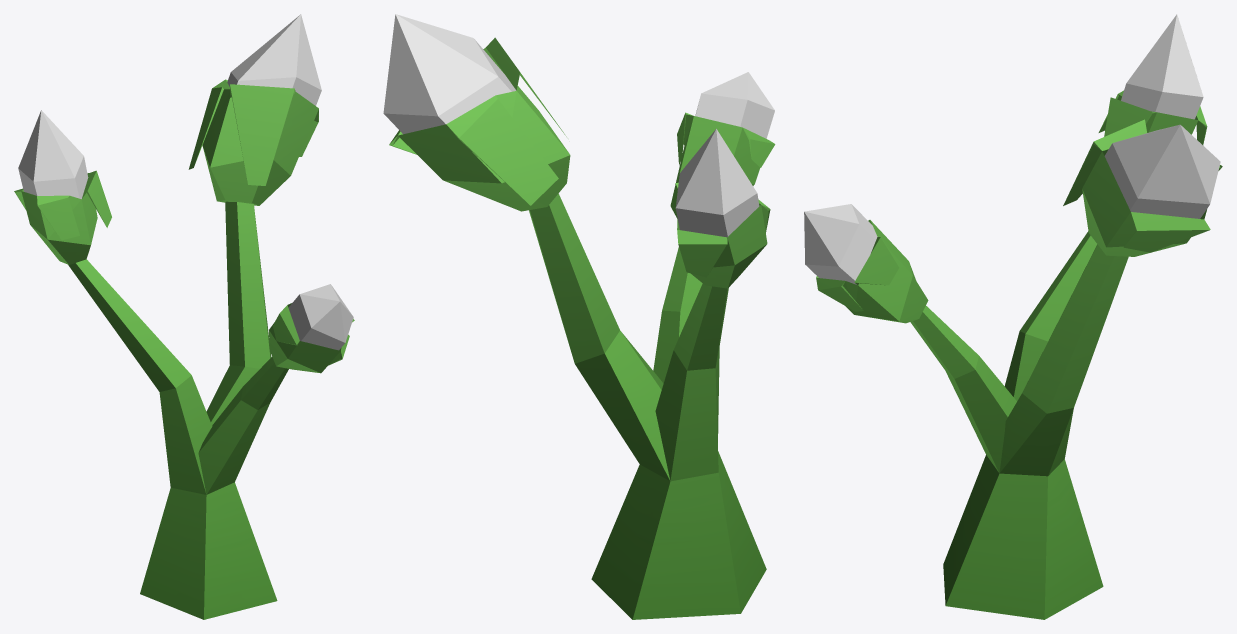
File: plant_flower_crystalbud.fbx
3 views of the same model, side by side, from view 1: azimuth 30°, elevation 25°; view 2: azimuth 150°, elevation 25°; view 3: azimuth 270°, elevation 25° (orthographic). The views are drawn at different scales.
Parts seen in each view (by area): view 1: plant_flower_crystalbud; view 2: plant_flower_crystalbud; view 3: plant_flower_crystalbud.
Boxes of the visible parts, left/top/right/bottom form: plant_flower_crystalbud: left=14, top=14, right=354, bottom=619; plant_flower_crystalbud: left=383, top=14, right=775, bottom=619; plant_flower_crystalbud: left=804, top=14, right=1222, bottom=619.
Size of the model in its own units: 0.5 by 0.8 by 0.55.
2 materials, 1 textured.
